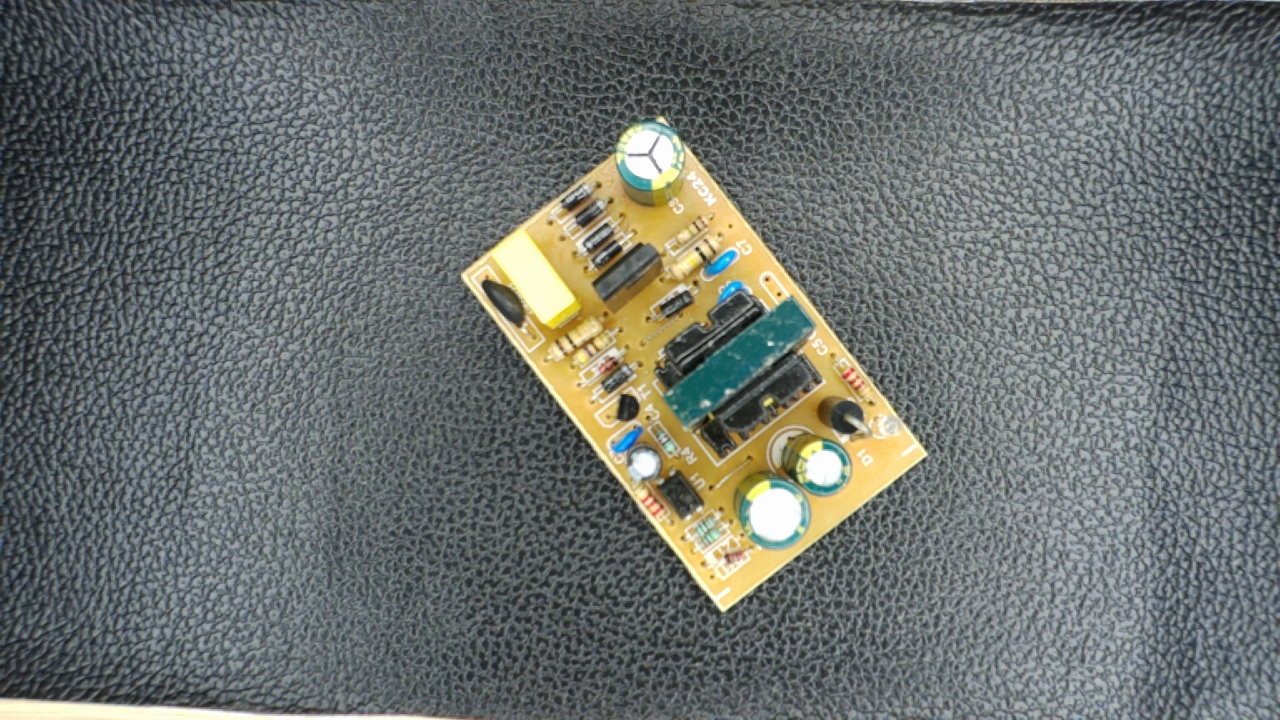fuse: (471, 272, 533, 336)
hv_capacitor: (612, 122, 690, 206)
optocoupler: (651, 470, 711, 524)
